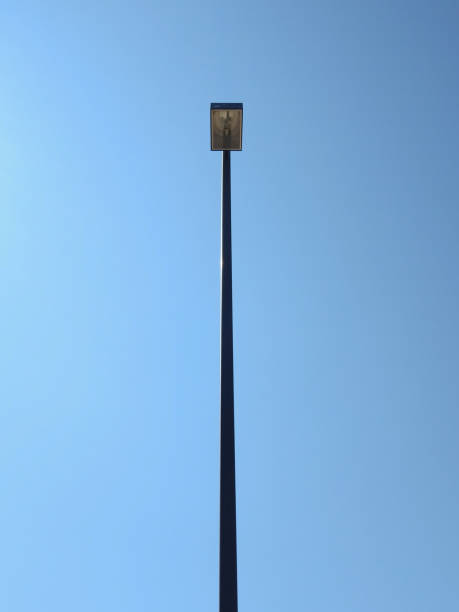light_pole: (215, 169, 240, 612)
